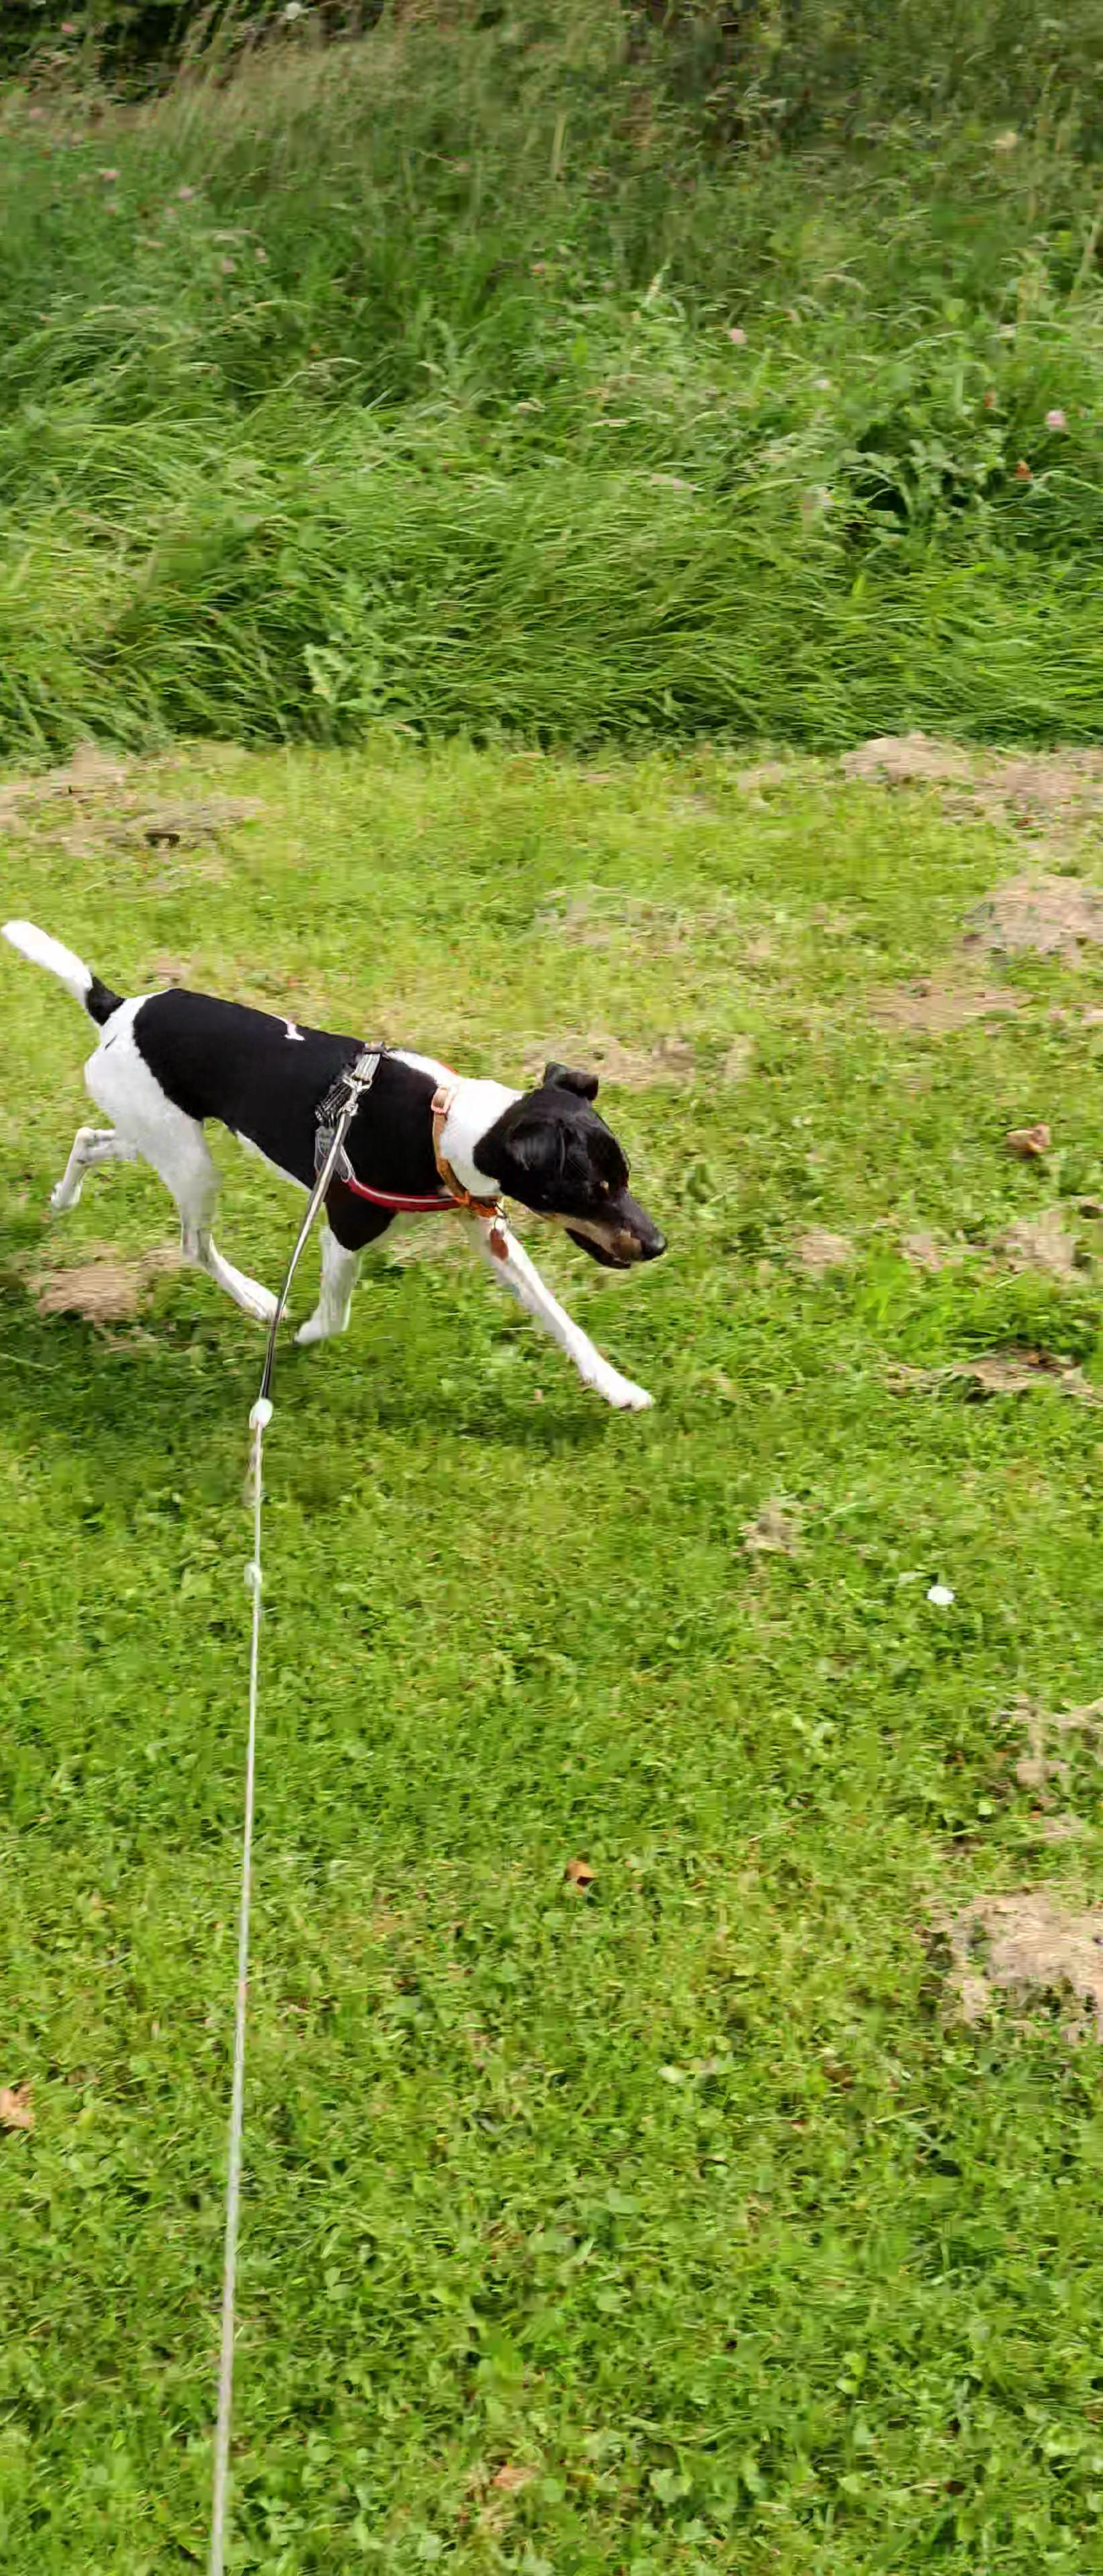Dog: (0, 913, 672, 1416)
